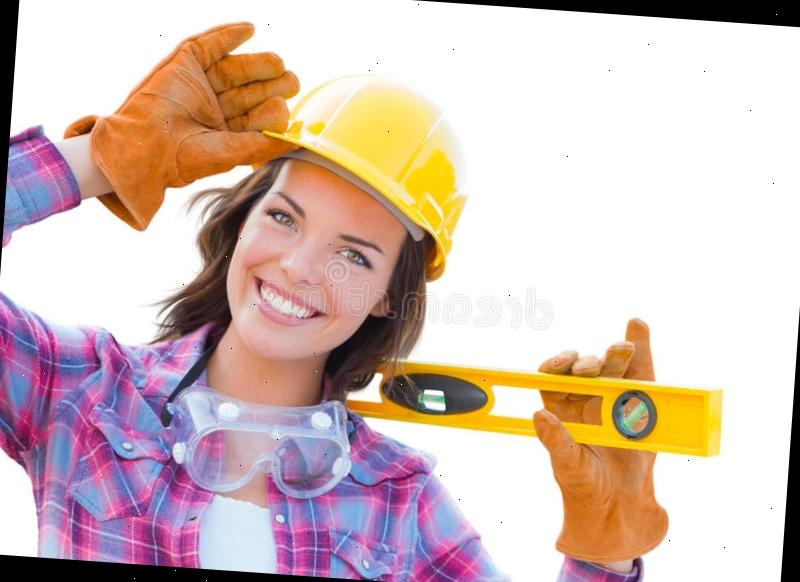helmet: (243, 64, 482, 282)
no_wear: (0, 366, 514, 582)
